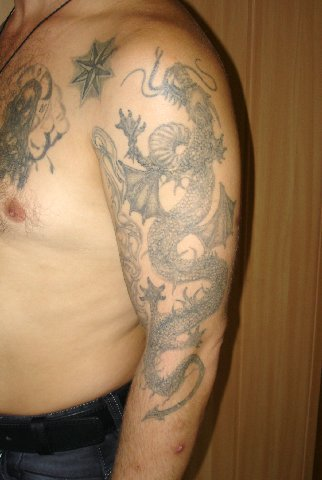tatu6_drakon: (85, 42, 254, 441)
